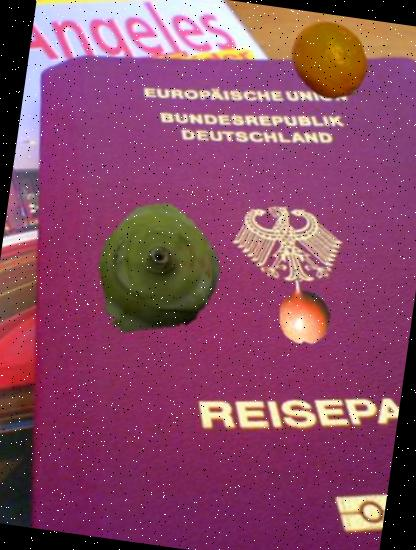Granadilla: (262, 264, 350, 351)
Kohlrabi: (76, 196, 228, 348)
Lemon: (282, 13, 379, 110)
